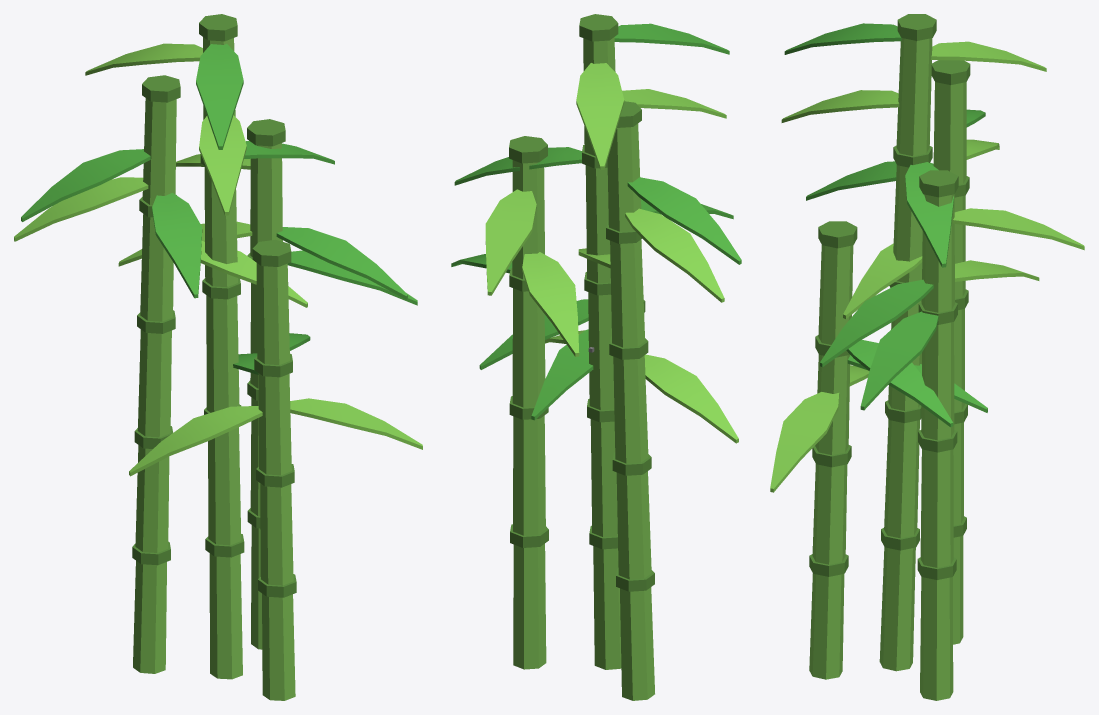
Rendered from Bamboo.fbx.
3 views of the same model, side by side, from view 1: azimuth 30°, elevation 25°; view 2: azimuth 150°, elevation 25°; view 3: azimuth 270°, elevation 25° (orthographic).
Visible parts, largest first — view 1: Bamboo_Cane, Bamboo_Leaf, Bamboo_LeafLight, Bamboo_CaneDark; view 2: Bamboo_Cane, Bamboo_LeafLight, Bamboo_Leaf, Bamboo_CaneDark; view 3: Bamboo_Cane, Bamboo_Leaf, Bamboo_LeafLight, Bamboo_CaneDark.
Part boxes in pixels (box(x1,y1,x2,y2)): Bamboo_Cane: box(133, 37, 295, 700); Bamboo_Leaf: box(21, 43, 417, 374); Bamboo_LeafLight: box(14, 43, 422, 476); Bamboo_CaneDark: box(132, 14, 296, 597); Bamboo_Cane: box(512, 37, 654, 700); Bamboo_LeafLight: box(485, 63, 738, 443); Bamboo_Leaf: box(451, 23, 741, 420); Bamboo_CaneDark: box(509, 14, 654, 591); Bamboo_Cane: box(809, 38, 966, 700); Bamboo_Leaf: box(784, 23, 987, 427); Bamboo_LeafLight: box(770, 41, 1084, 492); Bamboo_CaneDark: box(809, 14, 970, 579).
Bounding box in the file's own units: 393 × 706 × 313.
